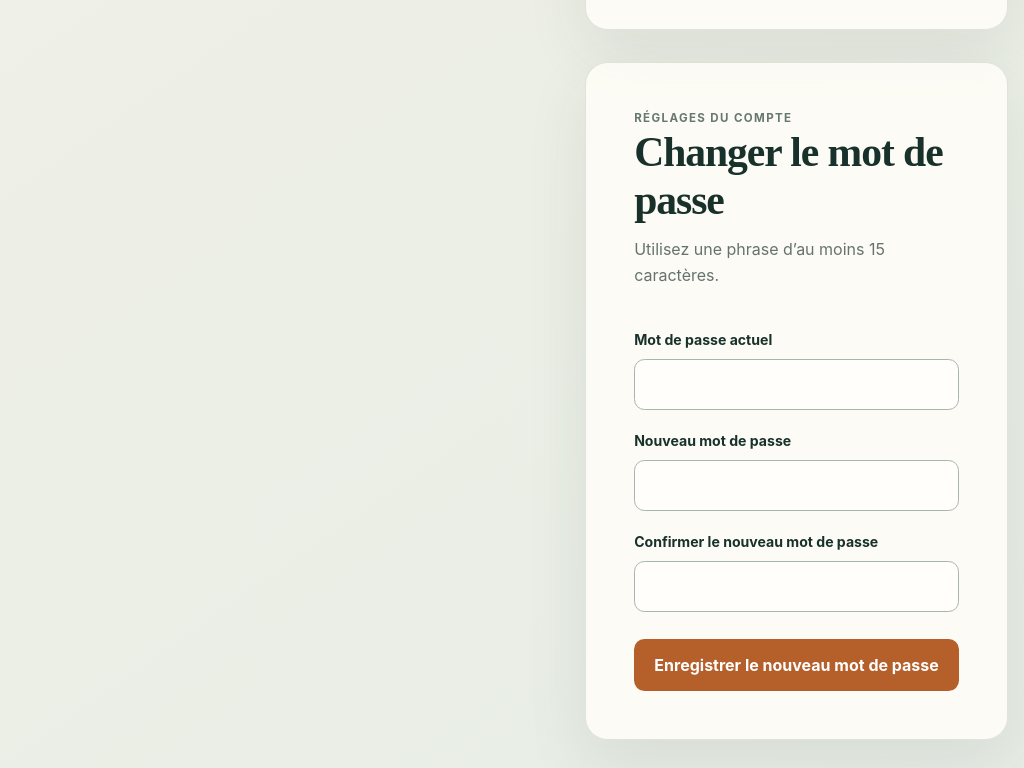
Scenario: authentication interface › changes the password with the CSRF cookie and confirms session revocation
(page scrolled)
Type "une phrase secrète assez longue" into the password field labelled "Mot de passe actuel" at {"x": 797, "y": 385}, box [634, 359, 959, 410]
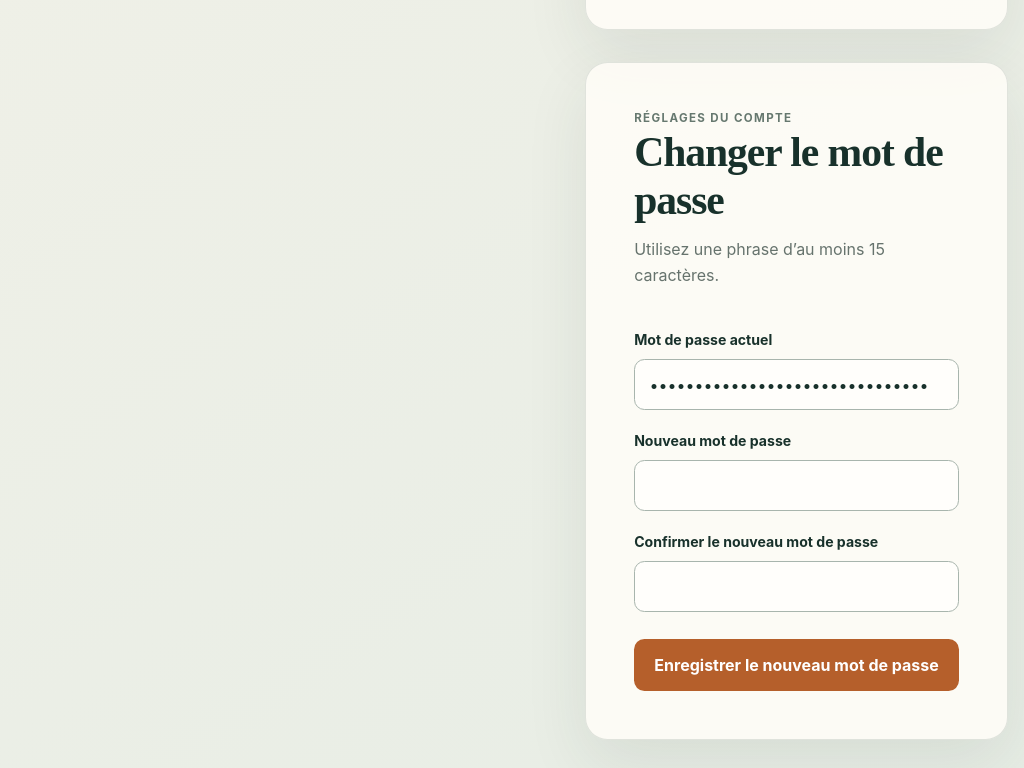
Type "une nouvelle phrase secrète valide" into the password field labelled "Nouveau mot de passe" at {"x": 797, "y": 486}, box [634, 460, 959, 511]
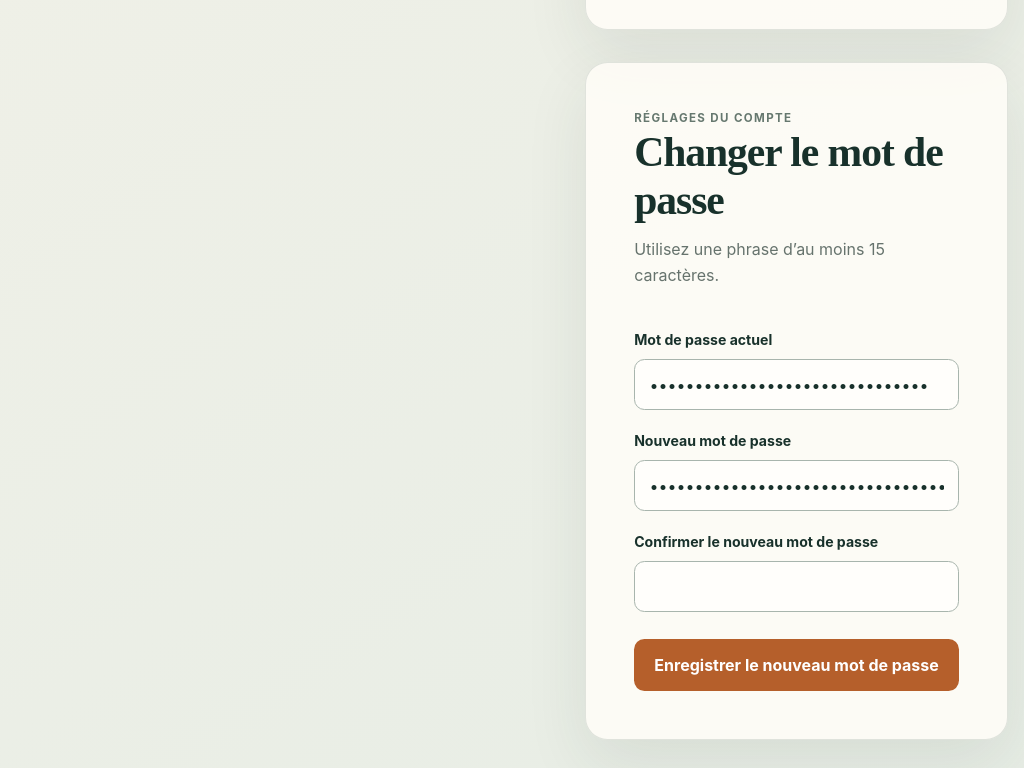
Type "une nouvelle phrase secrète valide" into the password field labelled "Confirmer le nouveau mot de passe" at {"x": 797, "y": 587}, box [634, 561, 959, 612]
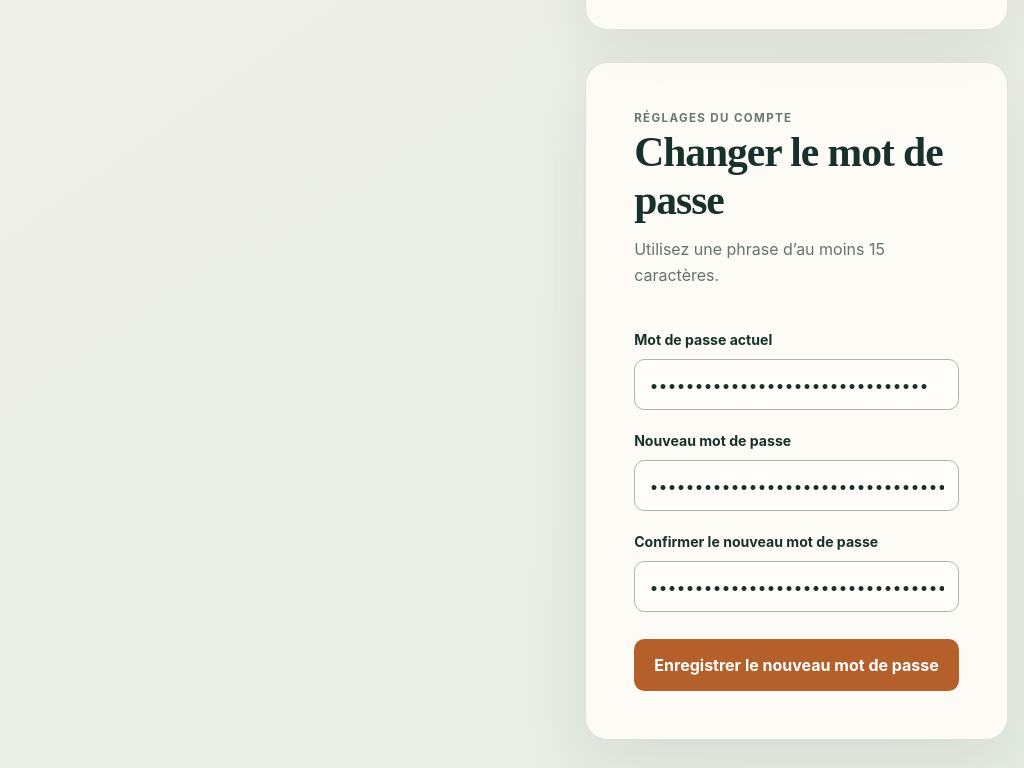
Click the button "Enregistrer le nouveau mot de passe" at {"x": 797, "y": 665}, box [634, 639, 959, 691]
(page scrolled)
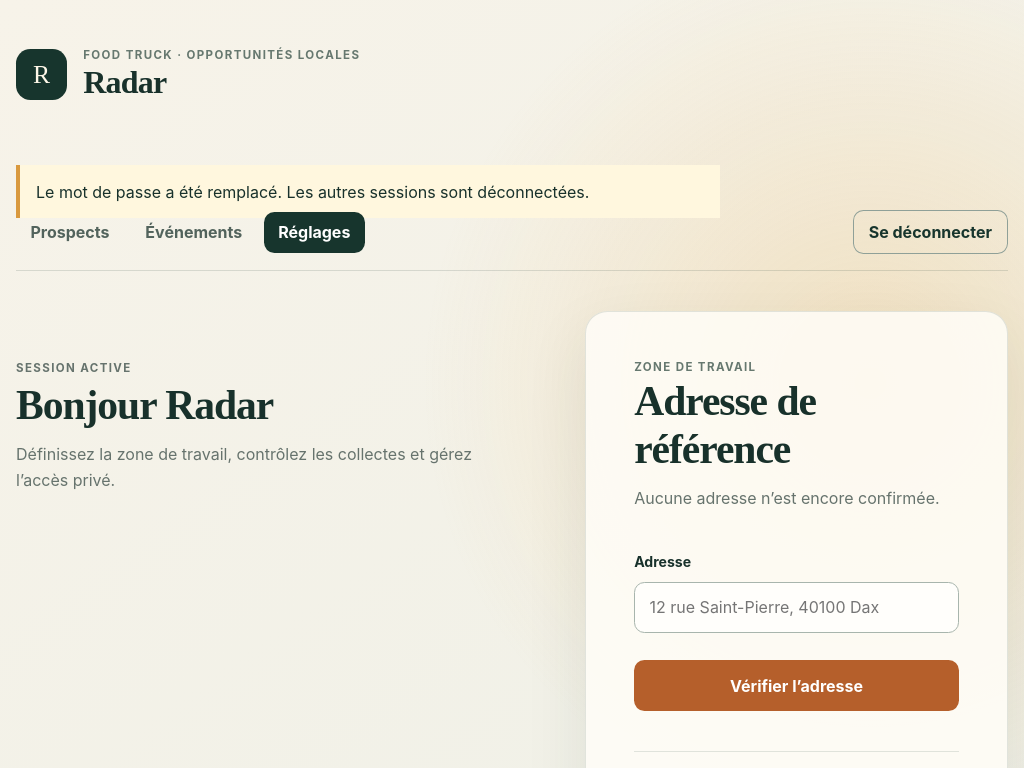
Expected: the text "Le mot de passe a été remplacé. Les autres sessions sont déconnectées." is shown, [16, 165, 720, 218]
